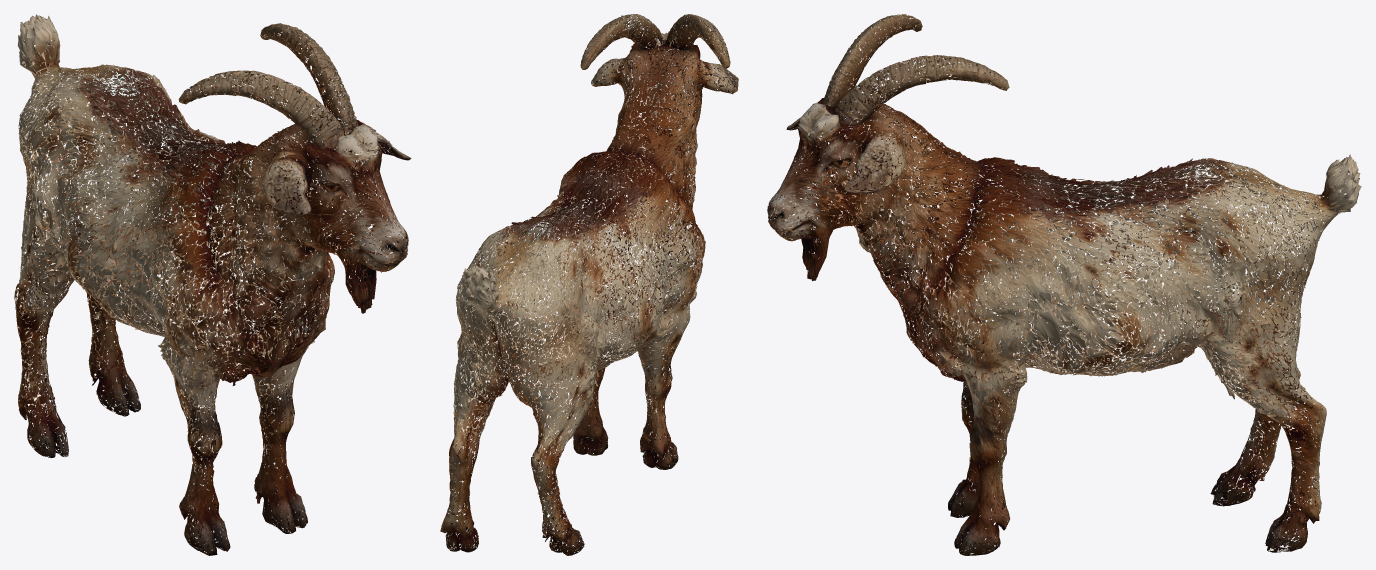
File: goat_farm.glb
3 renders of one model, left to right at view 1: azimuth 30°, elevation 25°; view 2: azimuth 150°, elevation 25°; view 3: azimuth 270°, elevation 25°, orthographic. The views are drawn at different scales.
Visible parts, largest first — view 1: Goat_Farm; view 2: Goat_Farm; view 3: Goat_Farm.
Boxes of the visible parts, x1,y1,x2,y2 form: Goat_Farm: [14, 14, 411, 555]; Goat_Farm: [440, 14, 738, 555]; Goat_Farm: [767, 14, 1361, 555].
Bounding box in the file's own units: 0.4919 × 1.19 × 1.3.
Materials: 1 (1 with a texture image).
